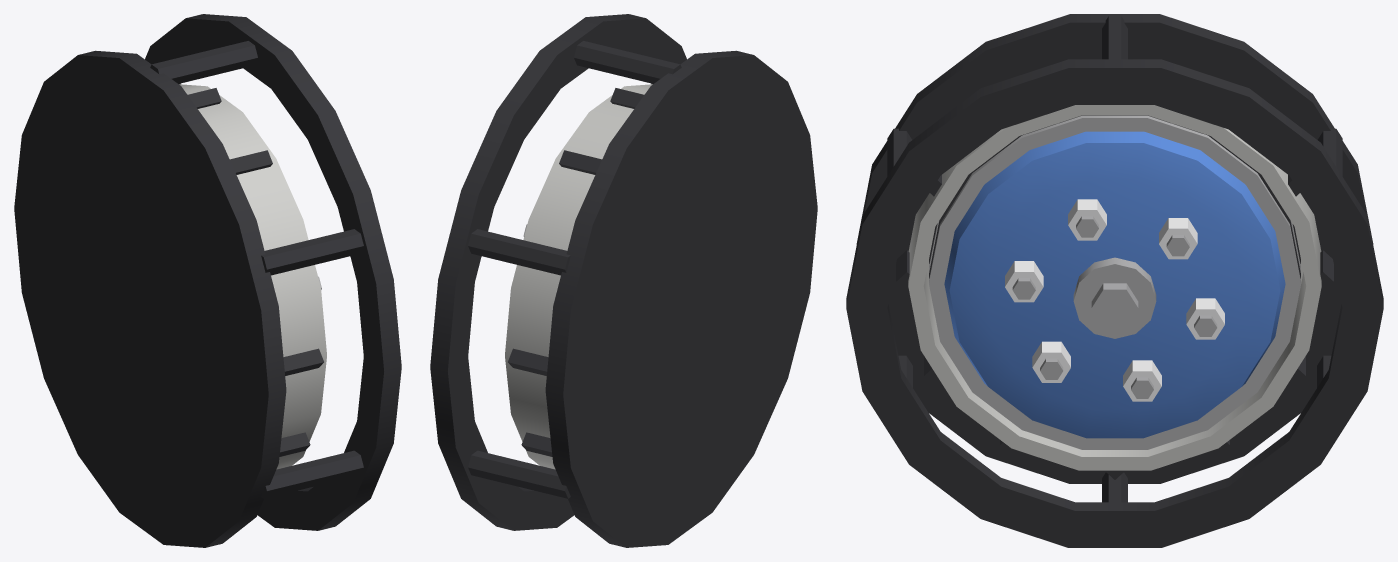
The model's file is clutch.glb.
3 renders of one model, left to right at view 1: azimuth 30°, elevation 25°; view 2: azimuth 150°, elevation 25°; view 3: azimuth 270°, elevation 25°, orthographic.
Visible parts, largest first — view 1: lod0; view 2: lod0; view 3: lod0.
Boxes of the visible parts, box(x1,y1,x2,y2) form: lod0: box(14, 14, 401, 547); lod0: box(430, 14, 817, 547); lod0: box(846, 14, 1383, 547).
Size of what is drawn, in the model's own units: 0.059 by 0.2048 by 0.208.
